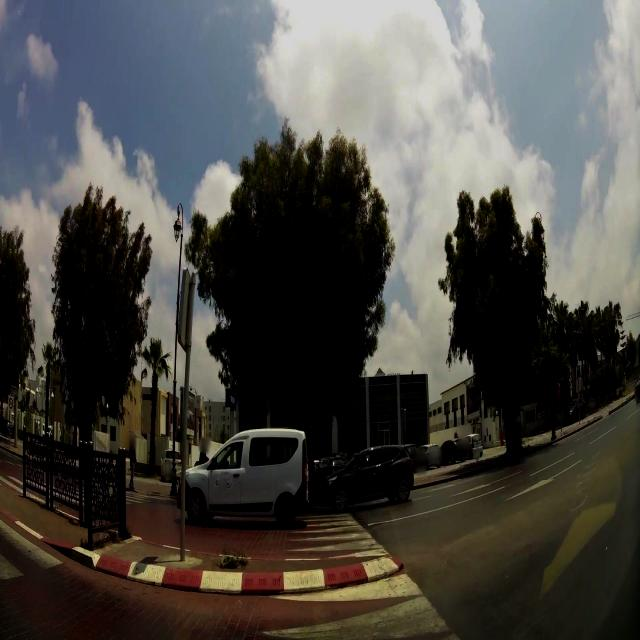car: (179, 426, 310, 529), (320, 443, 415, 512), (440, 438, 472, 464), (160, 448, 183, 484), (562, 398, 581, 424), (0, 413, 10, 437)
